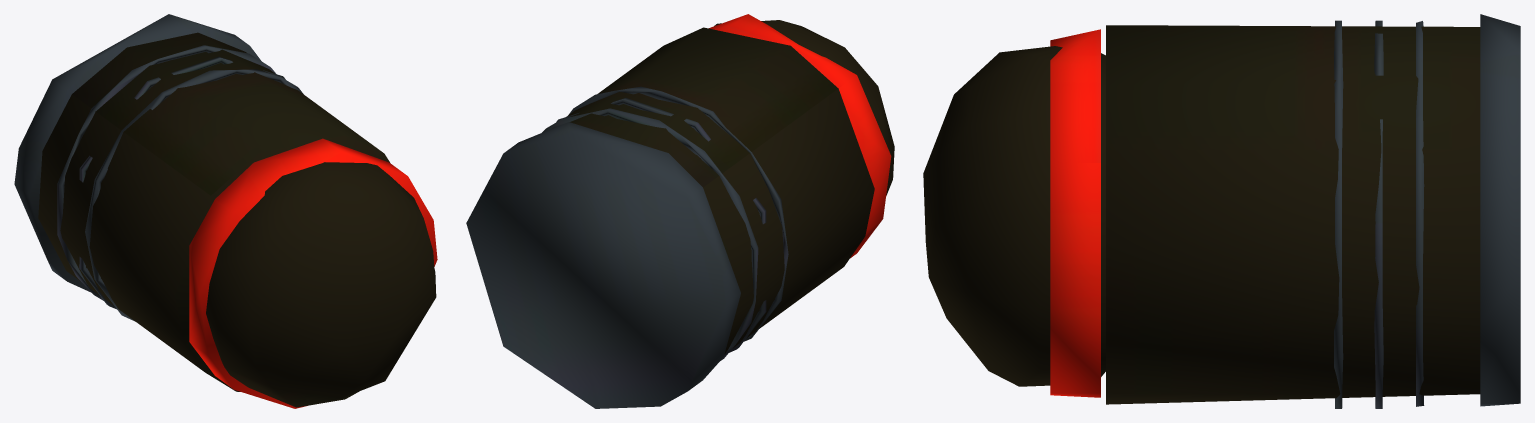
The model's file is weapon_grenade.glb.
The picture shows the model from 3 angles, left to right: view 1: azimuth 30°, elevation 25°; view 2: azimuth 150°, elevation 25°; view 3: azimuth 270°, elevation 25°; orthographic projection. The views are drawn at different scales.
Parts seen in each view (by area): view 1: weapon_grenade; view 2: weapon_grenade; view 3: weapon_grenade.
Part boxes in pixels (x1,y1,x2,y2): weapon_grenade: (14, 14, 437, 408); weapon_grenade: (466, 14, 894, 408); weapon_grenade: (923, 14, 1520, 408).
Bounding box in the file's own units: 0.0791 × 0.0787 × 0.1181.
Materials: 1 (1 with a texture image).
